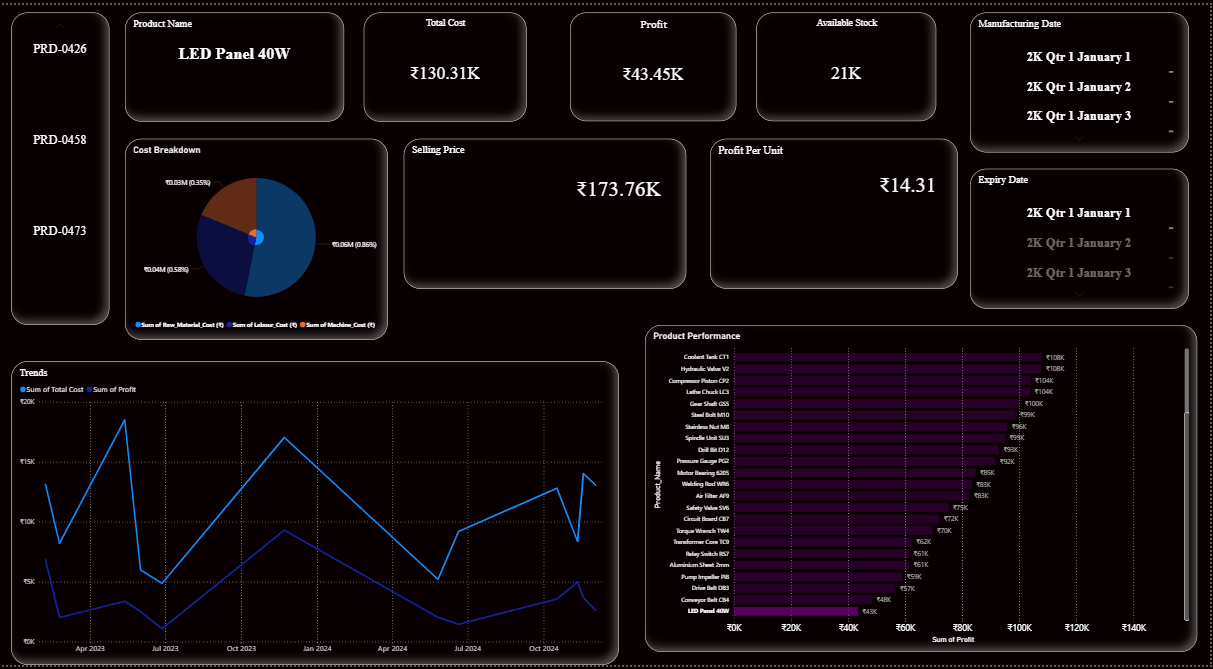

Layout of this report page (visuals, bound fields, positions):
{"tool":"powerbi","page":{"name":"Page 1","canvas":[2200,1200],"ordinal":0},"visuals":[{"type":"cardVisual","title":"Total Cost","fields":{"Data":["Sum(Manufacturing Data.Total Cost)"]},"box":[662,14,296,198],"z":0},{"type":"cardVisual","title":"Profit","fields":{"Data":["Sum(Manufacturing Data.Profit)"]},"box":[1036.4,13.6,302.3,197.7],"z":1000},{"type":"cardVisual","title":"Available Stock","fields":{"Data":["Sum(Manufacturing Data.Stock_Available)"]},"box":[1375,13.6,327.3,197.7],"z":2000},{"type":"pieChart","title":"Cost Breakdown","fields":{"Y":["Sum(Manufacturing Data.Raw_Material_Cost (₹))","Sum(Manufacturing Data.Labour_Cost (₹))","Sum(Manufacturing Data.Machine_Cost (₹))"]},"box":[227.3,243.2,477.3,365.9],"z":3000},{"type":"barChart","title":"Product Performance","fields":{"Y":["Sum(Manufacturing Data.Profit)"],"Category":["Manufacturing Data.Product_Name"]},"box":[1172,582,1004,594],"z":4000},{"type":"lineChart","title":"Trends","fields":{"Category":["Manufacturing Data.Manufacturing_Date.Variation.Date Hierarchy.Year","Manufacturing Data.Manufacturing_Date.Variation.Date Hierarchy.Quarter","Manufacturing Data.Manufacturing_Date.Variation.Date Hierarchy.Month","Manufacturing Data.Manufacturing_Date.Variation.Date Hierarchy.Day"],"Y":["Sum(Manufacturing Data.Total Cost)","Sum(Manufacturing Data.Profit)"]},"box":[20.5,647.7,1104.5,552.3],"z":5000},{"type":"cardVisual","title":"Selling Price","fields":{"Data":["Sum(Manufacturing Data.Selling_Price (₹))"]},"box":[734.1,243.2,513.6,272.7],"z":6000},{"type":"cardVisual","fields":{"Rows":["Manufacturing Data.Product_ID"]},"box":[20,14,178,568],"z":7000},{"type":"cardVisual","title":"Product Name","fields":{"Rows":["Manufacturing Data.Product_Name"]},"box":[228,14,398,198],"z":8000},{"type":"cardVisual","title":"Manufacturing Date","fields":{"Rows":["Manufacturing Data.Manufacturing_Date.Variation.Date Hierarchy.Year","Manufacturing Data.Manufacturing_Date.Variation.Date Hierarchy.Quarter","Manufacturing Data.Manufacturing_Date.Variation.Date Hierarchy.Month","Manufacturing Data.Manufacturing_Date.Variation.Date Hierarchy.Day"]},"box":[1763.6,13.6,397.7,254.5],"z":9000},{"type":"cardVisual","title":"Expiry Date","fields":{"Rows":["Manufacturing Data.Expiry_Date.Variation.Date Hierarchy.Year","Manufacturing Data.Expiry_Date.Variation.Date Hierarchy.Quarter","Manufacturing Data.Expiry_Date.Variation.Date Hierarchy.Month","Manufacturing Data.Expiry_Date.Variation.Date Hierarchy.Day"]},"box":[1763.6,297.7,397.7,254.5],"z":10000},{"type":"cardVisual","title":"Profit Per Unit ","fields":{"Data":["Sum(Manufacturing Data.Profit per Unit)"]},"box":[1290.9,243.2,450,272.7],"z":10001}]}

Visuals, with their boxes in screenshot pixels (x1, y1, x2, y2), scaled from the page's 2200x1200 canvas onto the 1213x669 screenshot:
"Total Cost" cardVisual: 365 8 528 118
"Profit" cardVisual: 571 8 738 118
"Available Stock" cardVisual: 758 8 939 118
"Cost Breakdown" pieChart: 125 136 388 340
"Product Performance" barChart: 646 324 1200 656
"Trends" lineChart: 11 361 620 668
"Selling Price" cardVisual: 405 136 688 288
cardVisual - Manufacturing Data.Product_ID: 11 8 109 324
"Product Name" cardVisual: 126 8 345 118
"Manufacturing Date" cardVisual: 972 8 1192 149
"Expiry Date" cardVisual: 972 166 1192 308
"Profit Per Unit " cardVisual: 712 136 960 288
